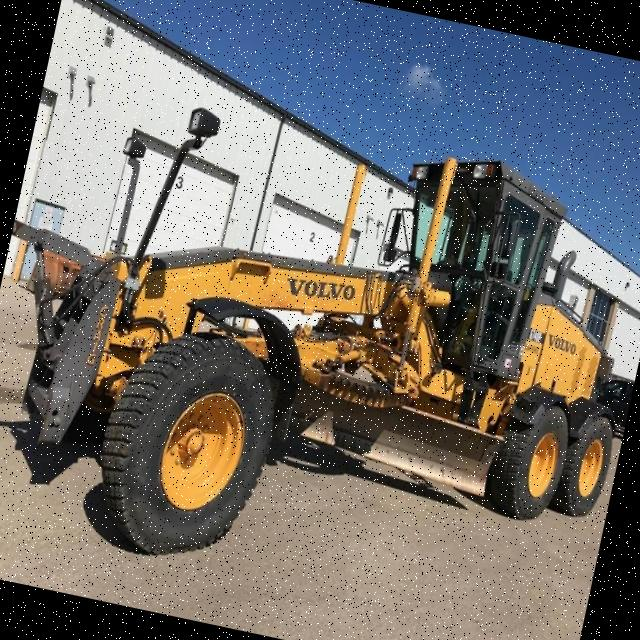Grader: (3, 63, 640, 640)
